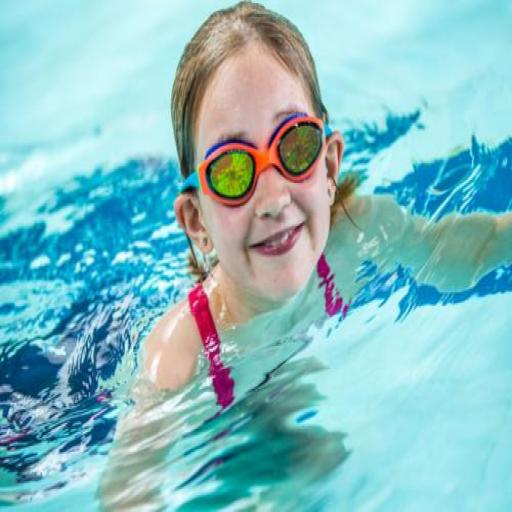swimming: (94, 0, 511, 510)
